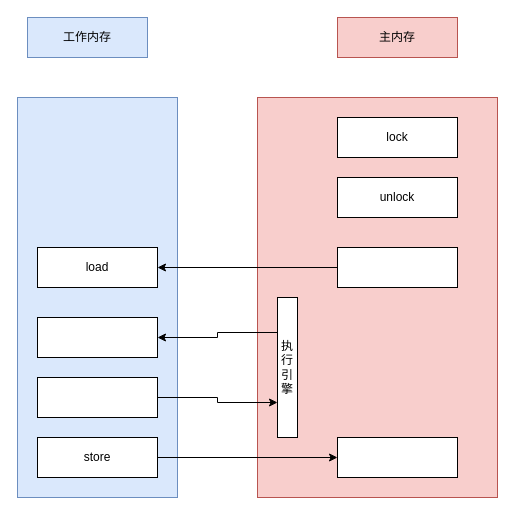
This 515x515 diagram has some shape labels left out. The shapes that lost their labels are listed below. From the top down, each one's box as (x1, y1, x2, y2) in pixels, then its label:
(336, 246, 458, 288): read
(36, 316, 158, 358): assign
(36, 376, 158, 418): use
(336, 436, 458, 478): write
